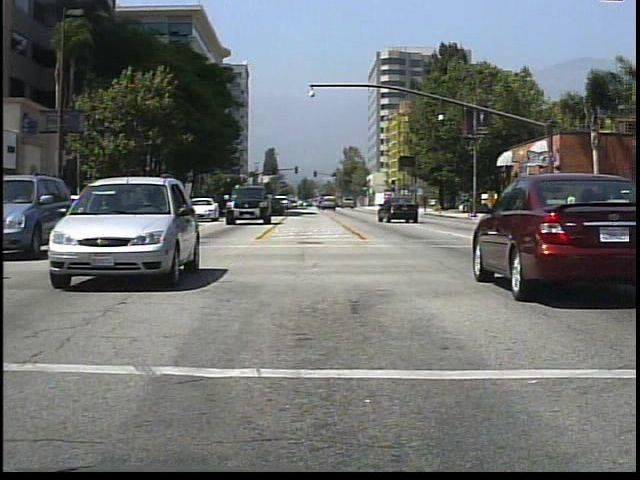person: (563, 189, 584, 234), (517, 190, 535, 227)
